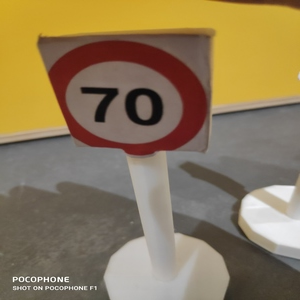70-bord: (48, 38, 210, 158)
